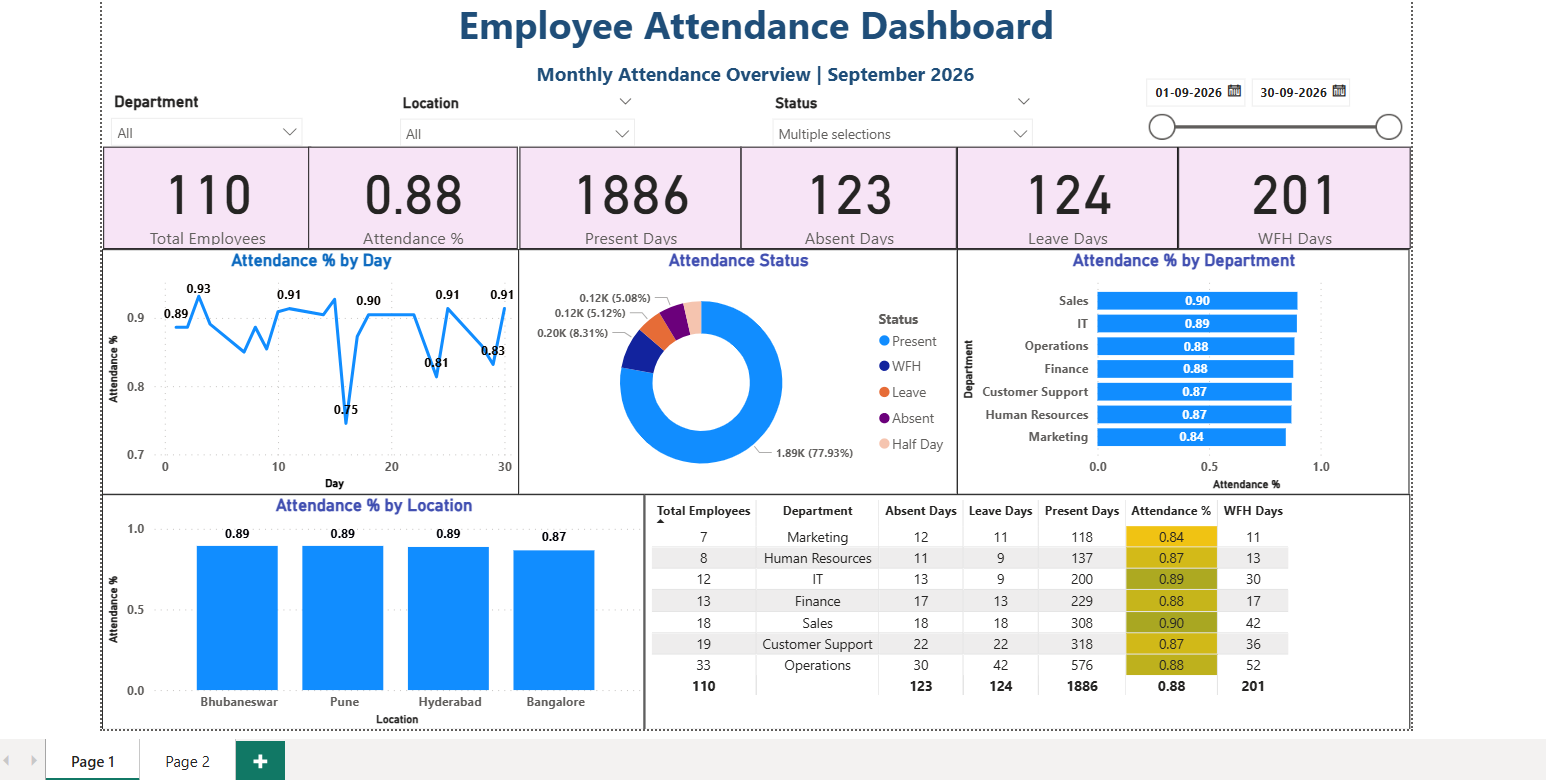

What the dashboard file says about the page in this screenshot:
{"tool":"powerbi","page":{"name":"Page 1","canvas":[1280,720],"ordinal":0},"visuals":[{"type":"textbox","box":[1.2,0,1277.5,61.2],"z":0},{"type":"textbox","box":[402.5,61.2,473.8,42.5],"z":1000},{"type":"card","fields":{"Values":["Attendance Raw.Total Employees"]},"box":[1.1,150,203.4,100],"z":2000},{"type":"card","fields":{"Values":["Attendance Raw.Attendance %"]},"box":[202.3,150,204.5,100],"z":3000},{"type":"card","fields":{"Values":["Attendance Raw.Present Days"]},"box":[408,150,217,100],"z":4000},{"type":"card","fields":{"Values":["Attendance Raw.Absent Days"]},"box":[625,150,211.4,100],"z":5000},{"type":"card","fields":{"Values":["Attendance Raw.Leave Days"]},"box":[836.4,150,215.9,100],"z":6000},{"type":"card","fields":{"Values":["Attendance Raw.WFH Days"]},"box":[1052.3,150,227.3,100],"z":7000},{"type":"lineChart","fields":{"Category":["Calendar.Date.Variation.Date Hierarchy.Day"],"Y":["Attendance Raw.Attendance %"]},"box":[0,250,408,239.8],"z":8000},{"type":"donutChart","title":"Attendance Status","fields":{"Category":["Attendance Raw.Status"],"Y":["CountNonNull(Attendance Raw.Status)"]},"box":[406.8,250,429.5,239.8],"z":9000},{"type":"clusteredBarChart","fields":{"Category":["Employee Master.Department"],"Y":["Attendance Raw.Attendance %"]},"box":[836.2,250,442.5,240],"z":10000},{"type":"columnChart","fields":{"Category":["Employee Master.Location"],"Y":["Attendance Raw.Attendance %"]},"box":[0,489.8,530.7,230.7],"z":11000},{"type":"tableEx","fields":{"Values":["Attendance Raw.Total Employees","Employee Master.Department","Attendance Raw.Absent Days","Attendance Raw.Leave Days","Attendance Raw.Present Days","Attendance Raw.Attendance %","Attendance Raw.WFH Days"]},"box":[530.7,489.8,748.9,230.7],"z":12000},{"type":"slicer","fields":{"Values":["Employee Master.Department"]},"box":[0,93.8,205,55],"z":13000},{"type":"slicer","fields":{"Values":["Employee Master.Location"]},"box":[281.2,93.8,250,55],"z":14000},{"type":"slicer","fields":{"Values":["Attendance Raw.Status"]},"box":[645,93.8,275,55],"z":15000},{"type":"slicer","fields":{"Values":["Calendar.Date"]},"box":[1008.8,73.8,271.2,76.2],"z":16000}]}

Visuals, with their boxes in screenshot pixels (x1, y1, x2, y2):
textbox: Rect(94, 0, 1412, 51)
textbox: Rect(508, 51, 997, 95)
card - Attendance Raw.Total Employees: Rect(94, 143, 304, 246)
card - Attendance Raw.Attendance %: Rect(301, 143, 512, 246)
card - Attendance Raw.Present Days: Rect(514, 143, 738, 246)
card - Attendance Raw.Absent Days: Rect(738, 143, 956, 246)
card - Attendance Raw.Leave Days: Rect(956, 143, 1178, 246)
card - Attendance Raw.WFH Days: Rect(1178, 143, 1413, 246)
lineChart - Calendar.Date.Variation.Date Hierarchy.Day x Attendance Raw.Attendance %: Rect(93, 246, 514, 493)
"Attendance Status" donutChart: Rect(512, 246, 956, 493)
clusteredBarChart - Employee Master.Department x Attendance Raw.Attendance %: Rect(955, 246, 1412, 494)
columnChart - Employee Master.Location x Attendance Raw.Attendance %: Rect(93, 493, 640, 731)
tableEx - Attendance Raw.Total Employees x Employee Master.Department: Rect(640, 493, 1413, 731)
slicer - Employee Master.Department: Rect(93, 85, 304, 141)
slicer - Employee Master.Location: Rect(383, 85, 641, 141)
slicer - Attendance Raw.Status: Rect(758, 85, 1042, 141)
slicer - Calendar.Date: Rect(1134, 64, 1413, 143)
